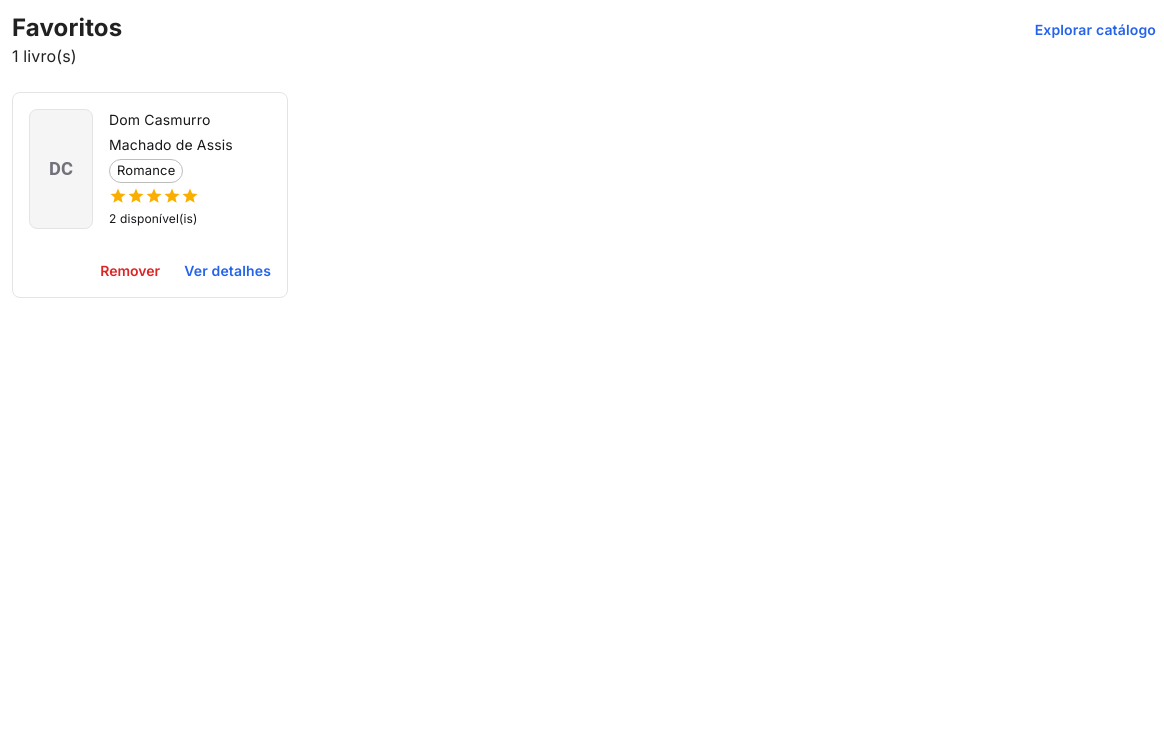
Test case: mantém o favorito e mostra erro se a remoção falhar
The width and height of the screenshot is (1164, 732).
Click the button with aria-label "Remover Dom Casmurro dos favoritos" at (130,271), box [92,253,168,289]
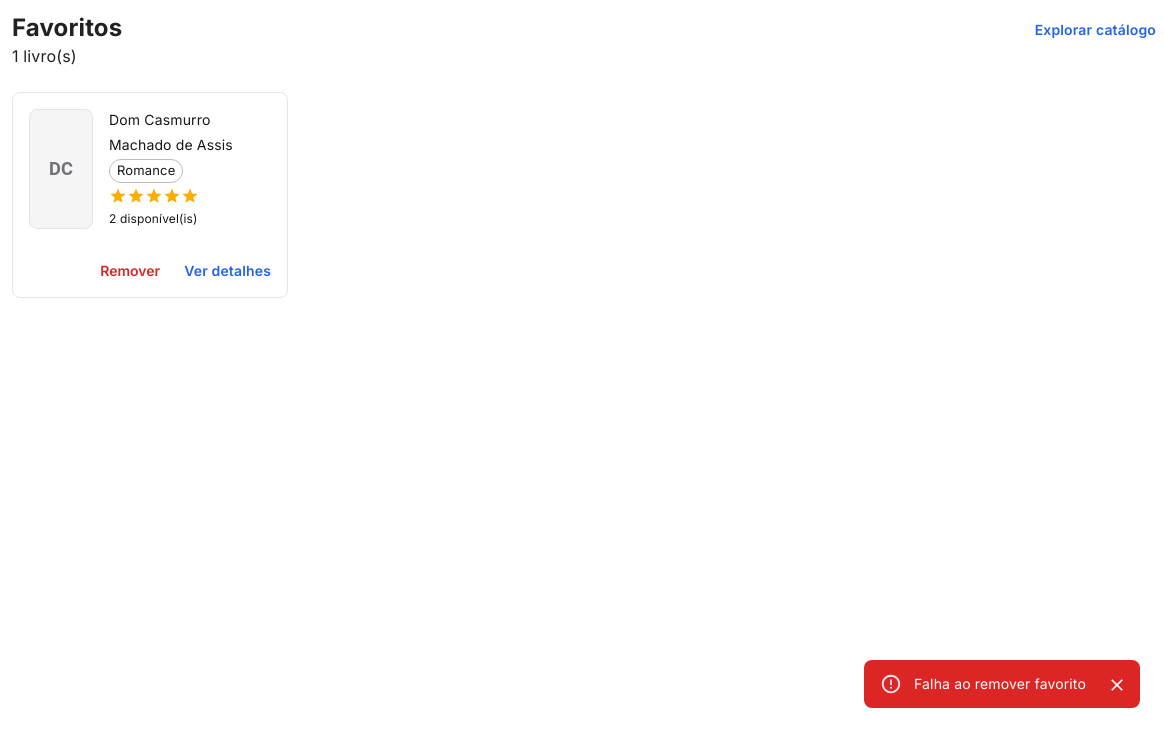
Expected: the heading "Dom Casmurro" is shown, [109,111,210,128]
Result: the text "Falha ao remover favorito" is shown at [914,675,1086,692]
